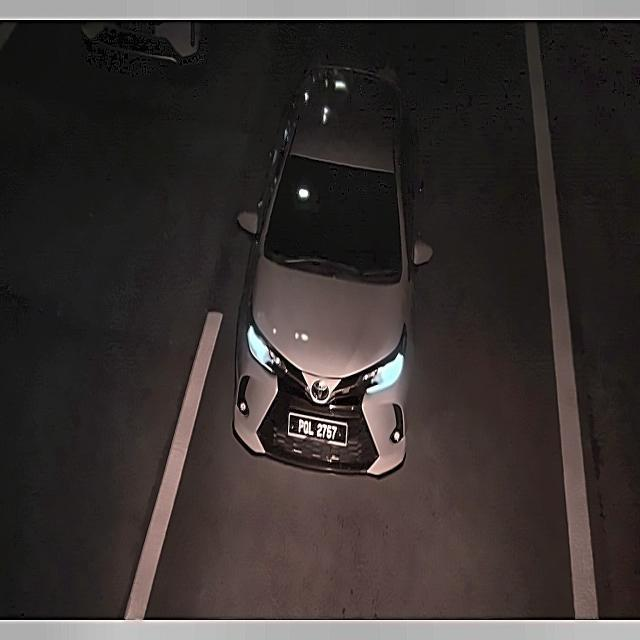car: (279, 403, 353, 454), (99, 20, 160, 45)
